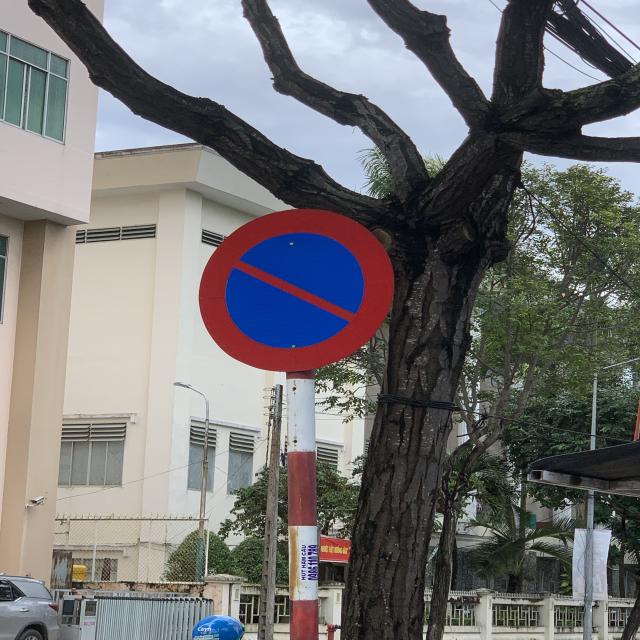Cam_Dau_Xe: (193, 205, 394, 375)
